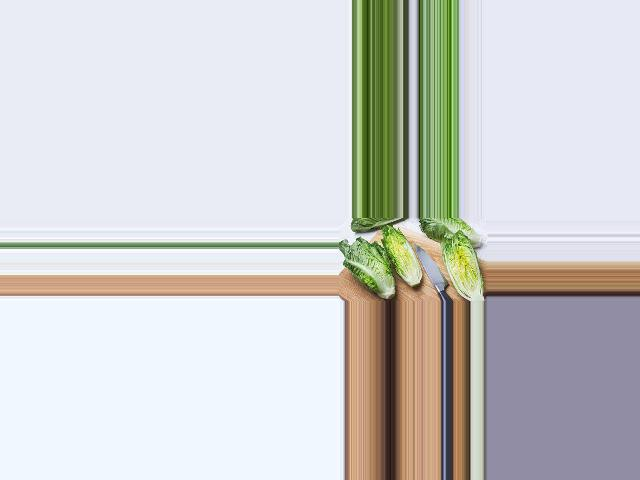lettuce: (420, 220, 481, 247)
